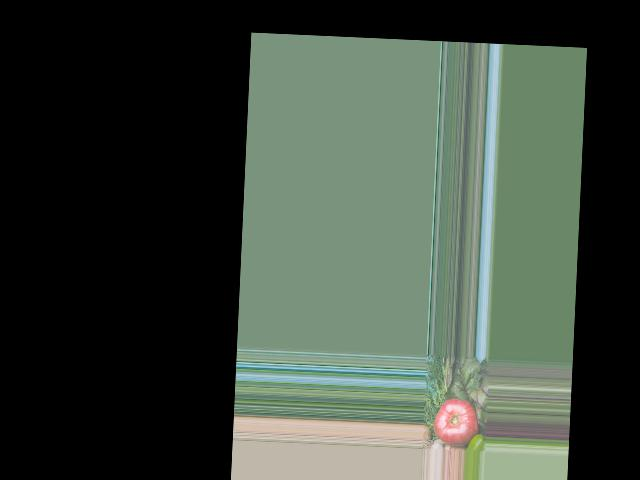tomato: (433, 398, 480, 448)
